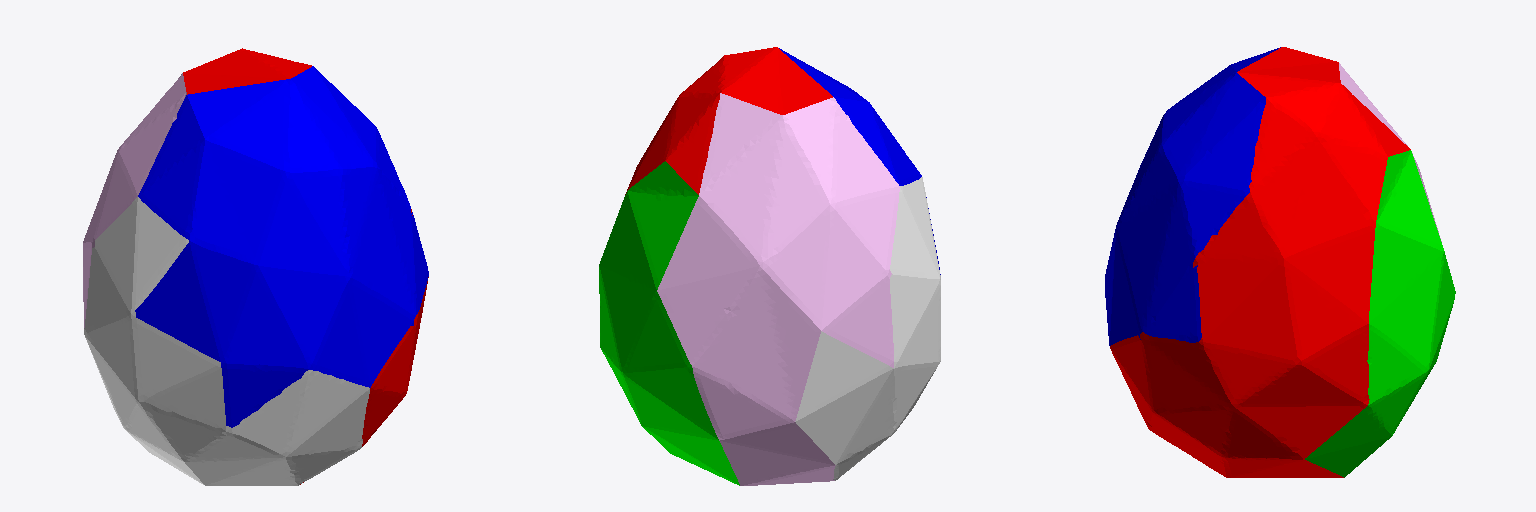
Rendered from model_24539_segmented.obj.
The picture shows the model from 3 angles: view 1: azimuth 30°, elevation 25°; view 2: azimuth 150°, elevation 25°; view 3: azimuth 270°, elevation 25°; orthographic projection.
Bounding box in the file's own units: 51.96 × 63.19 × 52.89.